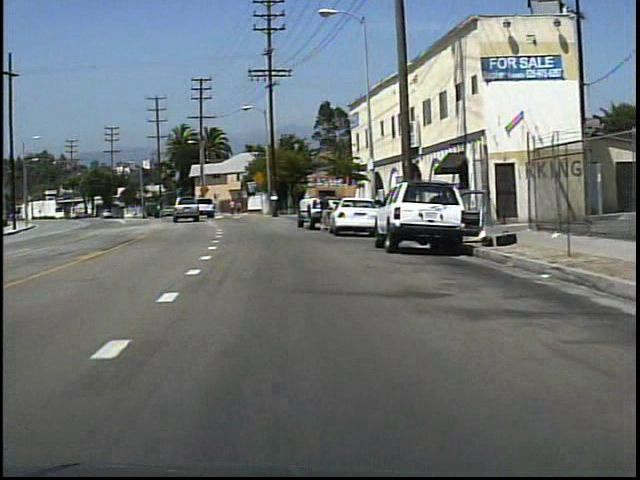person: (317, 189, 338, 236), (229, 198, 239, 219), (236, 200, 244, 217)
